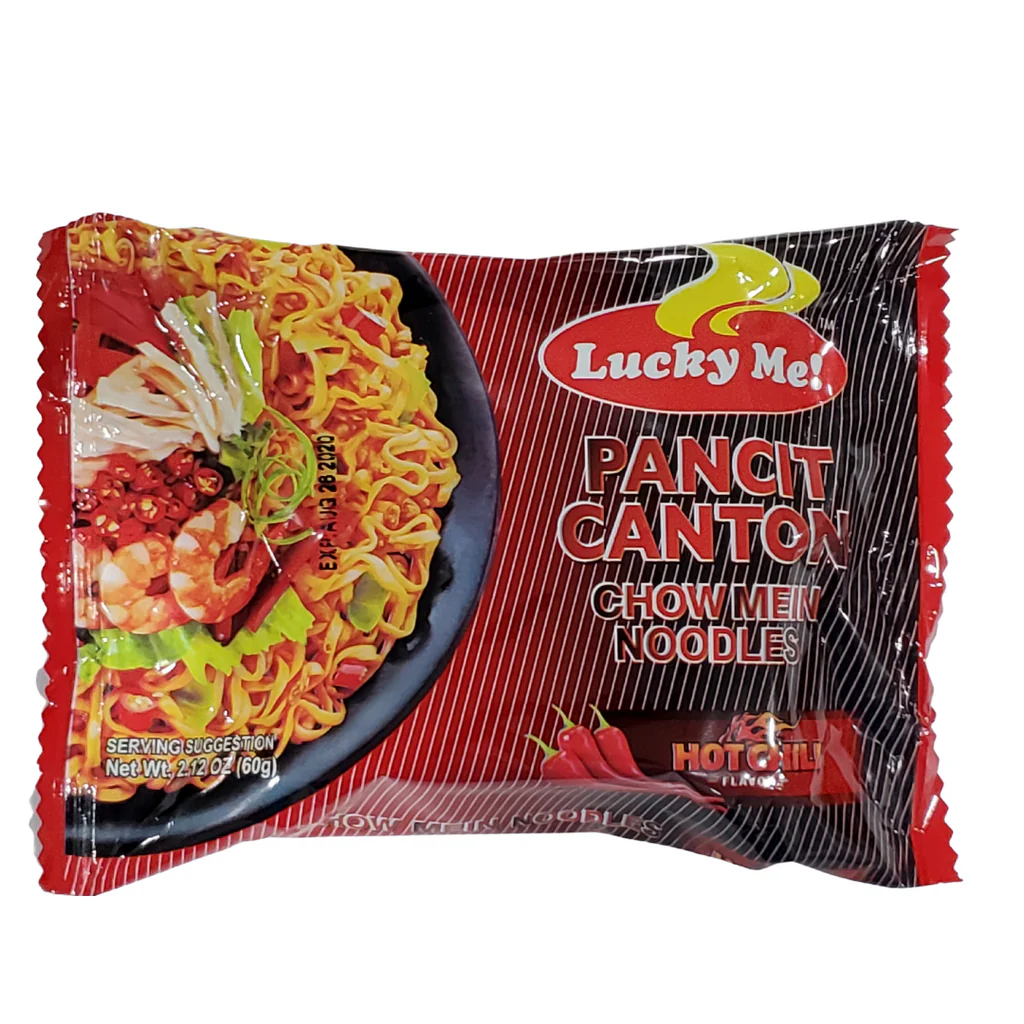non-toxic_waste: (43, 238, 904, 831)
